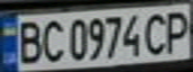0: (63, 15, 87, 62)
4: (121, 10, 145, 57)
7: (103, 12, 124, 60)
9: (84, 14, 109, 61)
B: (12, 17, 45, 64)
C: (139, 9, 172, 56), (36, 16, 66, 63)
P: (160, 7, 193, 55)
